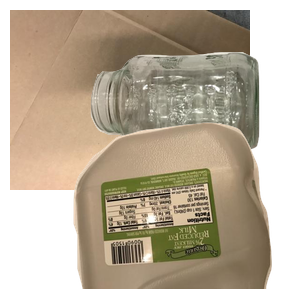cardboard: (10, 10, 250, 190)
glass: (88, 50, 300, 194)
plastic: (71, 120, 300, 300)
trash: (84, 133, 292, 300)
